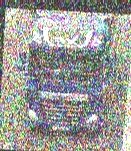truck: (16, 8, 117, 142)
